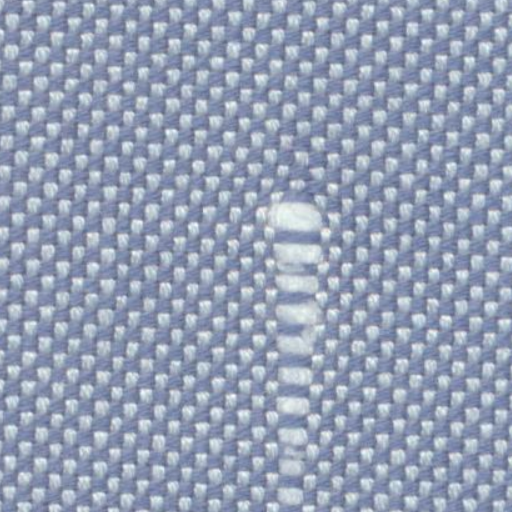DaiSha: (245, 190, 332, 494)
